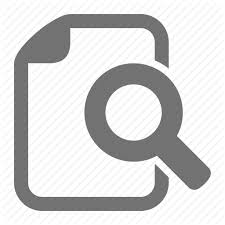searchIcon: (81, 61, 213, 192)
